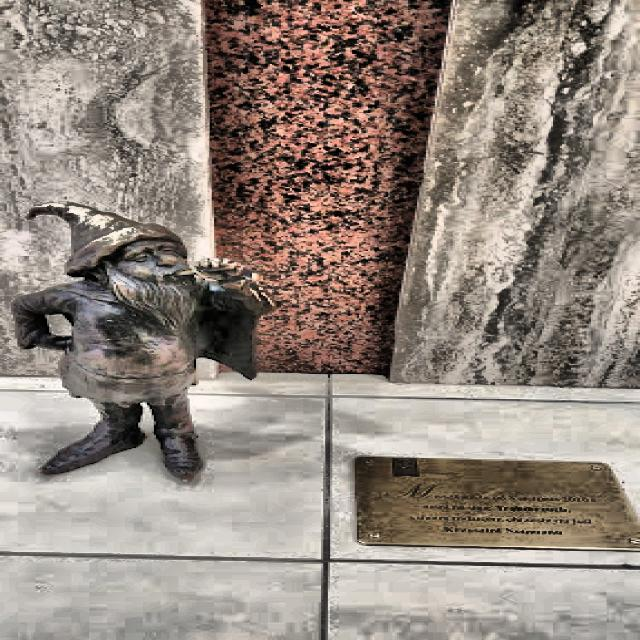Trabibrzuch: (13, 204, 273, 481)
